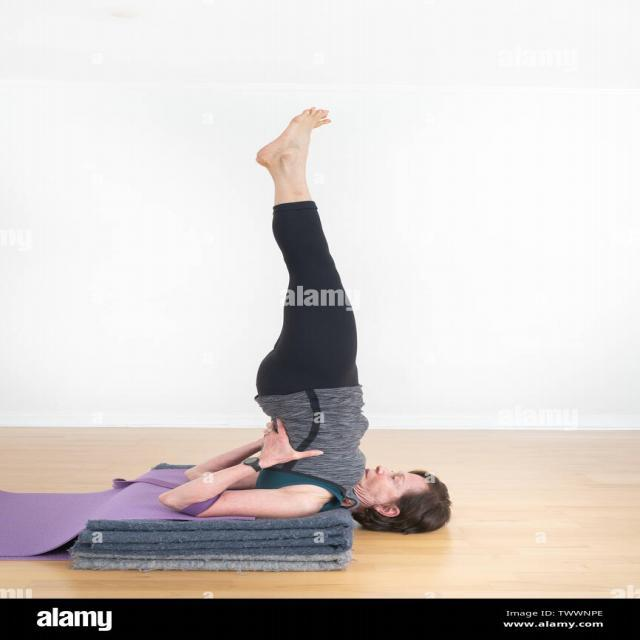yoga-pose shoulderstand: (152, 107, 452, 524)
